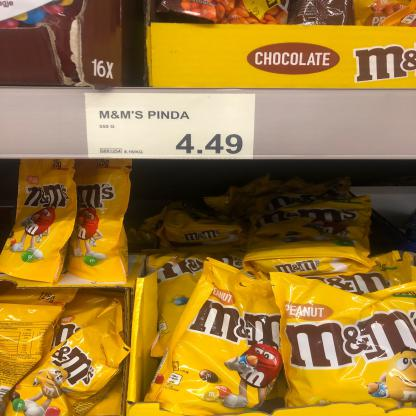prtg: (86, 94, 257, 161)
